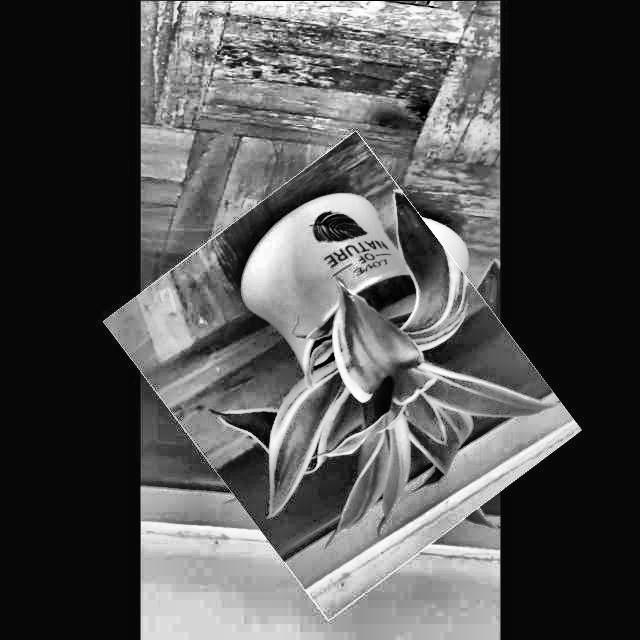plants: (142, 159, 540, 592)
